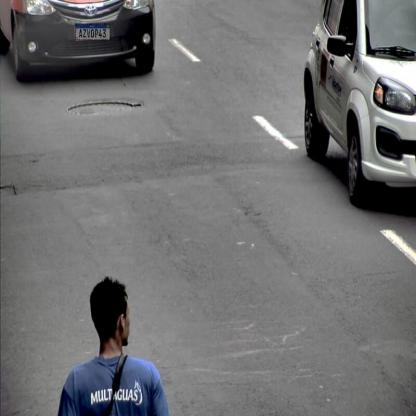PlacaM: (76, 24, 110, 40)
